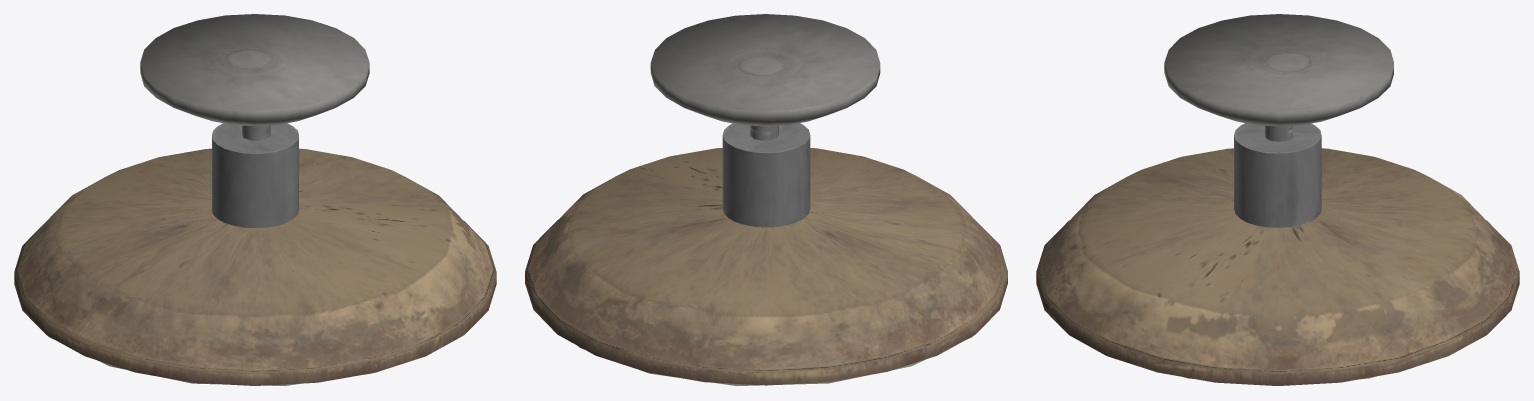
Rendered from Lamp_2.fbx.
The picture shows the model from 3 angles, left to right: view 1: azimuth 30°, elevation 25°; view 2: azimuth 150°, elevation 25°; view 3: azimuth 270°, elevation 25°; orthographic projection.
Parts seen in each view (by area): view 1: Lamp_bedroom__1_; view 2: Lamp_bedroom__1_; view 3: Lamp_bedroom__1_.
Boxes of the visible parts, x1,y1,x2,y2 form: Lamp_bedroom__1_: [14, 14, 496, 386]; Lamp_bedroom__1_: [525, 14, 1007, 386]; Lamp_bedroom__1_: [1036, 14, 1519, 386].
Bounding box in the file's own units: 31.22 × 18.48 × 31.22.
